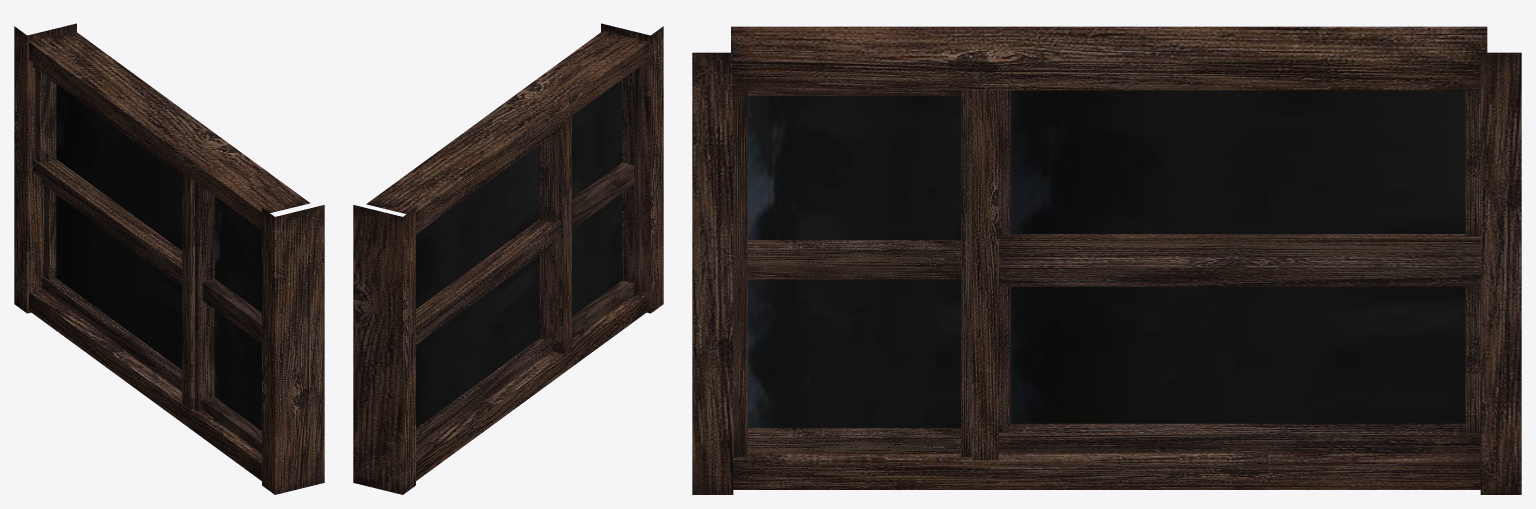
Rendered from caen_window_brown_clean_1.glb.
3 renders of one model, left to right at view 1: azimuth 30°, elevation 25°; view 2: azimuth 150°, elevation 25°; view 3: azimuth 270°, elevation 25°, orthographic. The views are drawn at different scales.
Bounding box in the file's own units: 7.98 × 42.72 × 72.59.
1 material, 1 textured.
